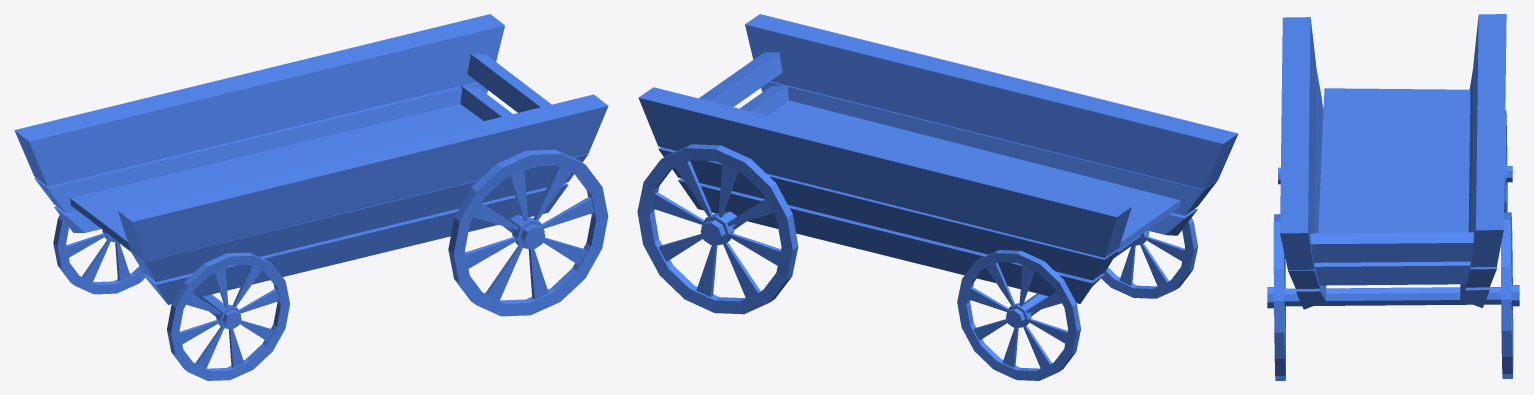
File: Wooden_Cart_Variant4.fbx
3 renders of one model, left to right at view 1: azimuth 30°, elevation 25°; view 2: azimuth 150°, elevation 25°; view 3: azimuth 270°, elevation 25°, orthographic. The views are drawn at different scales.
Visible parts, largest first — view 1: Wooden_Cart_Variant4; view 2: Wooden_Cart_Variant4; view 3: Wooden_Cart_Variant4.
Part boxes in pixels (<box>): Wooden_Cart_Variant4: <box>14,14,608,380</box>; Wooden_Cart_Variant4: <box>637,14,1238,380</box>; Wooden_Cart_Variant4: <box>1267,14,1519,380</box>.
Bounding box in the file's own units: 289 × 112 × 142.
